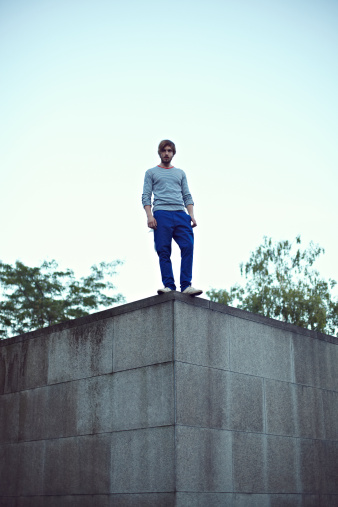em pe: (141, 140, 195, 292)
